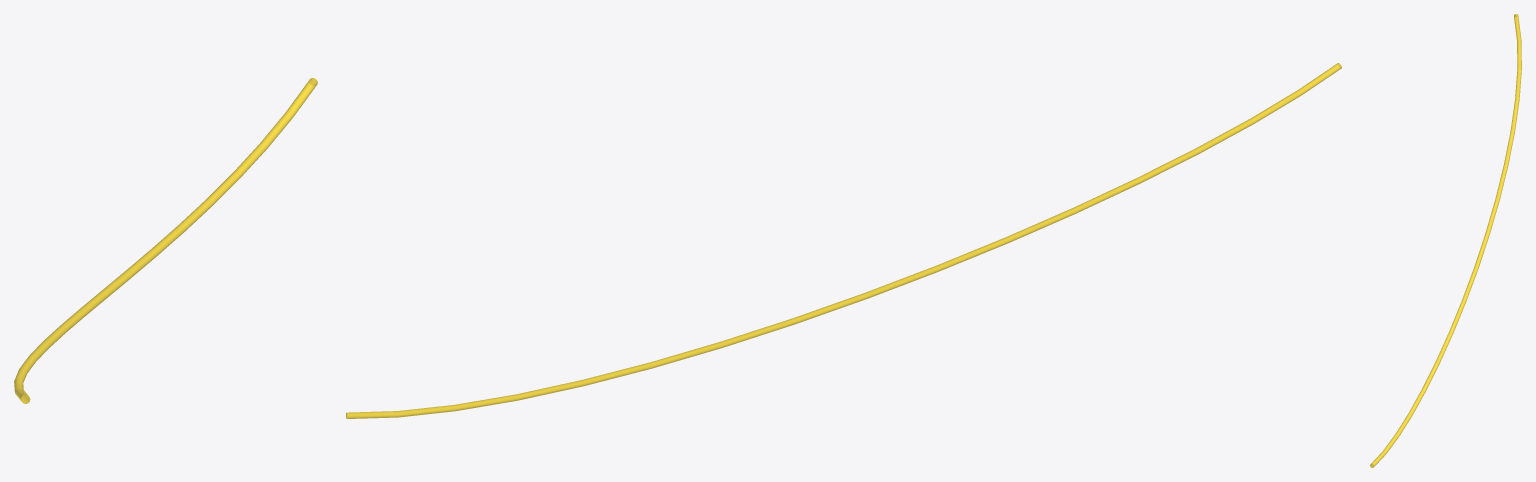
File: Event_17758602_track_44.fbx
3 renders of one model, left to right at view 1: azimuth 90°, elevation 25°; view 2: azimuth 210°, elevation 25°; view 3: azimuth 270°, elevation 25°, orthographic. The views are drawn at different scales.
Visible parts, largest first — view 1: Model; view 2: Model; view 3: Model.
Boxes of the visible parts, x1,y1,x2,y2 form: Model: (14, 78, 317, 403); Model: (346, 63, 1341, 418); Model: (1370, 14, 1521, 467).
Bounding box in the file's own units: 6.27 × 1.45 × 1.32.
